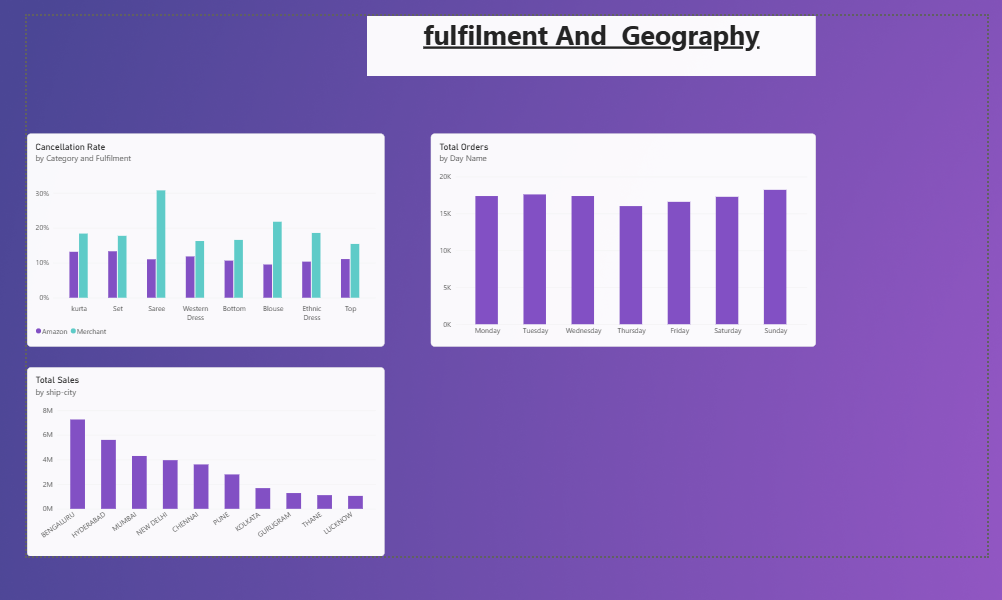

What the dashboard file says about the page in this screenshot:
{"tool":"powerbi","page":{"name":"fulfilment & Geography","canvas":[1920,1080],"ordinal":1},"visuals":[{"type":"lineClusteredColumnComboChart","fields":{"Category":["Dim_Product.Category"],"Series":["Amazon Sale Report.Fulfilment"],"Y":["Amazon Sale Report.Cancellation Rate"]},"box":[0,235,715,426.7],"z":0},{"type":"clusteredColumnChart","fields":{"Category":["Dim_Location.ship-city"],"Y":["Amazon Sale Report.Total Sales"]},"box":[0,702.5,715,378.3],"z":1000},{"type":"clusteredColumnChart","fields":{"Category":["Dim_Date.Day Name"],"Y":["Amazon Sale Report.Total Orders"]},"box":[807.5,235,770,426.7],"z":2000},{"type":"textbox","box":[680,0,897.5,120],"z":3000}]}

Visuals, with their boxes in screenshot pixels (x1, y1, x2, y2):
lineClusteredColumnComboChart - Dim_Product.Category x Amazon Sale Report.Fulfilment: bbox(23, 130, 378, 342)
clusteredColumnChart - Dim_Location.ship-city x Amazon Sale Report.Total Sales: bbox(23, 362, 378, 550)
clusteredColumnChart - Dim_Date.Day Name x Amazon Sale Report.Total Orders: bbox(424, 130, 807, 342)
textbox: bbox(361, 13, 807, 73)
